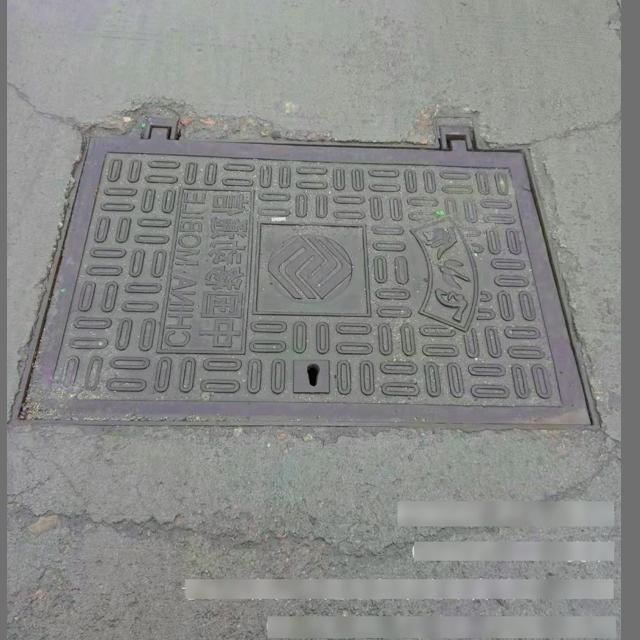good: (10, 112, 599, 429)
